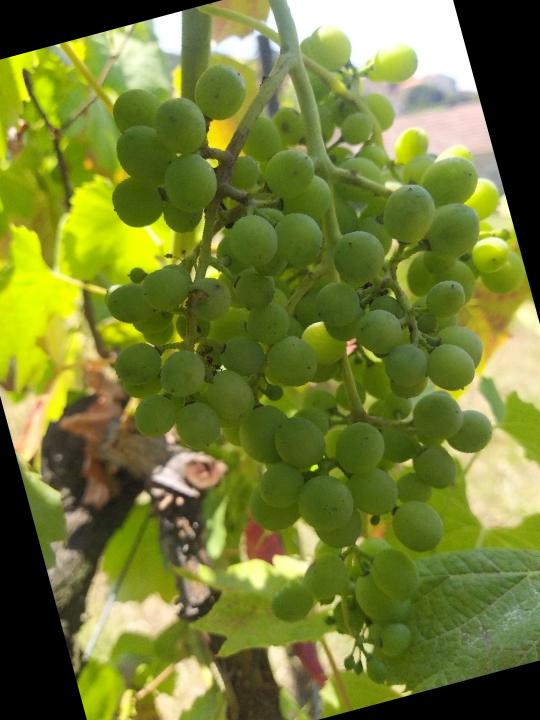grape: (37, 0, 540, 720)
